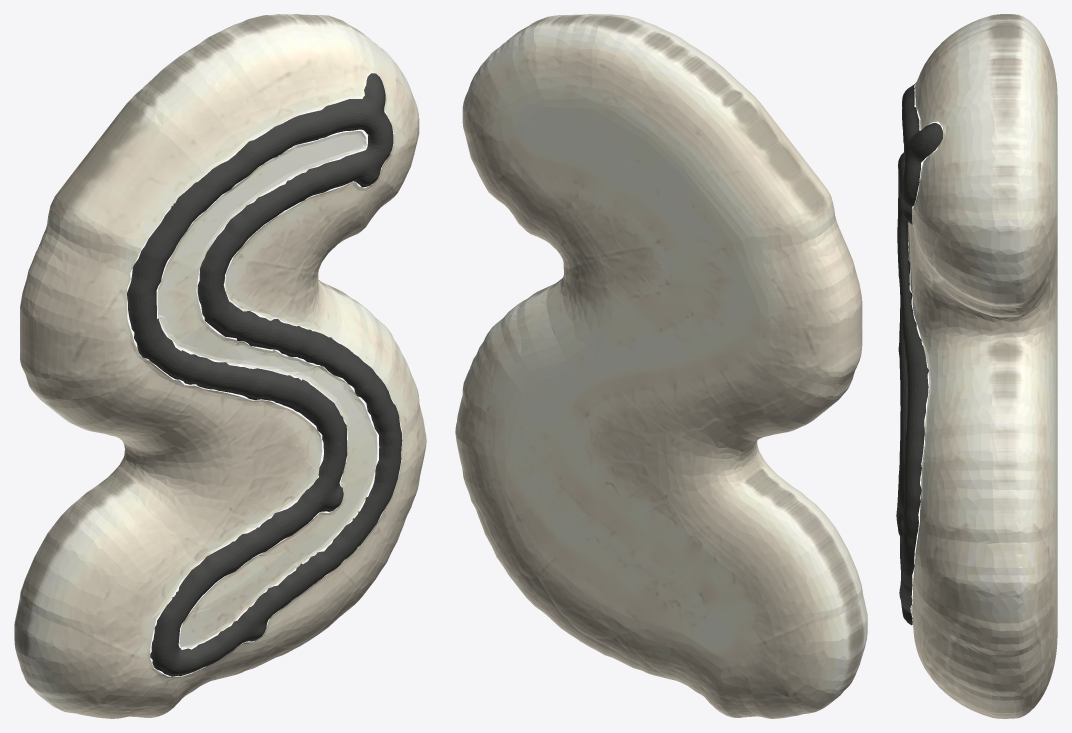
File: IAMWE_XMAS_S.glb
The picture shows the model from 3 angles, left to right: view 1: azimuth 30°, elevation 25°; view 2: azimuth 150°, elevation 25°; view 3: azimuth 270°, elevation 25°; orthographic projection. The views are drawn at different scales.
Visible parts, largest first — view 1: s_paper, s_thread; view 2: s_paper; view 3: s_paper, s_thread.
Boxes of the visible parts, x1,y1,x2,y2 form: s_paper: (14, 14, 426, 718); s_thread: (127, 73, 402, 676); s_paper: (455, 14, 867, 718); s_paper: (907, 14, 1057, 718); s_thread: (896, 84, 942, 625).
Bounding box in the file's own units: 0.627 × 1 × 0.2045.
Materials: 2 (1 with a texture image).
